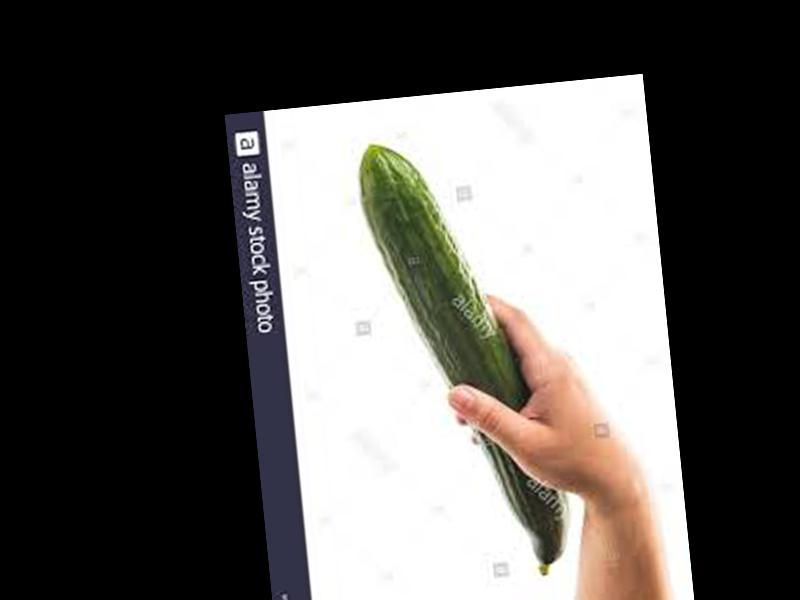Cucumber: (354, 128, 574, 592)
